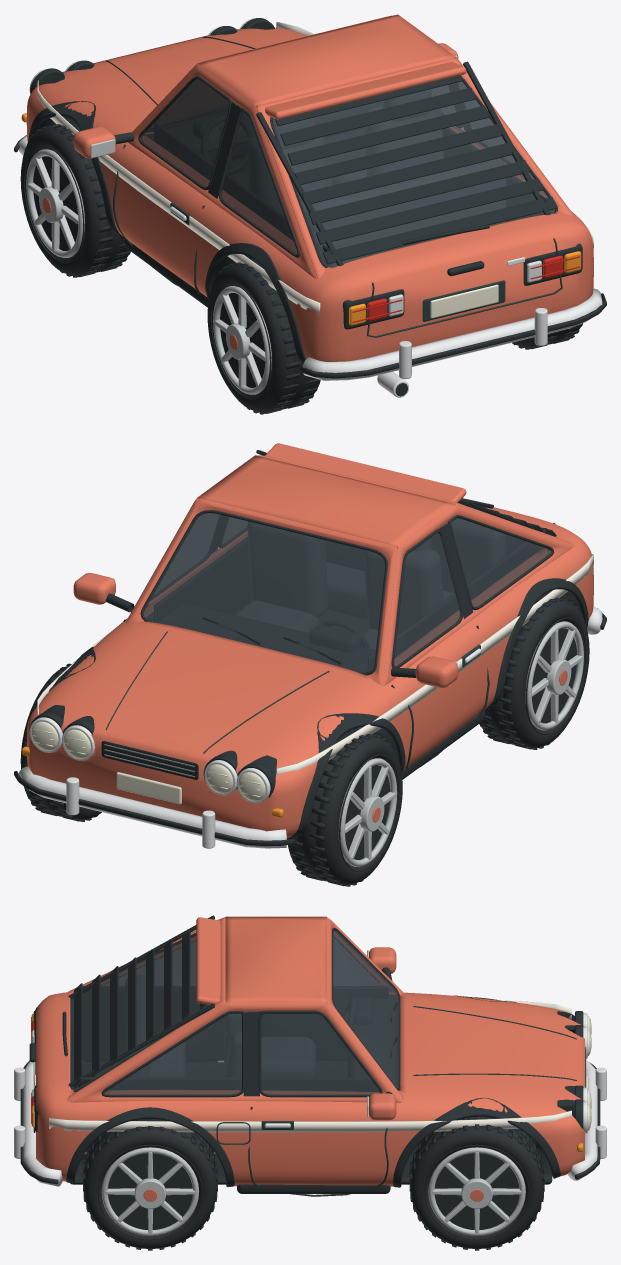
File: otter.fbx
3 renders of one model, top to bottom at view 1: azimuth 30°, elevation 25°; view 2: azimuth 150°, elevation 25°; view 3: azimuth 270°, elevation 25°, orthographic. The views are drawn at different scales.
Visible parts, largest first — view 1: Body, Wheel_RL_Mesh, Wheel_FL_Mesh, Wheel_RR_Mesh; view 2: Body, Wheel_FL_Mesh, Wheel_RL_Mesh, Wheel_FR_Mesh; view 3: Body, Wheel_FR_Mesh, Wheel_RR_Mesh.
Part boxes in pixels (x1,y1,x2,y2): Body: (14,14,606,397); Wheel_RL_Mesh: (207,258,320,414); Wheel_FL_Mesh: (20,120,130,277); Wheel_RR_Mesh: (512,323,582,349); Body: (14,443,606,848); Wheel_FL_Mesh: (287,729,402,886); Wheel_RL_Mesh: (479,594,589,749); Wheel_FR_Mesh: (20,663,101,821); Body: (14,915,606,1196); Wheel_FR_Mesh: (409,1116,544,1250); Wheel_RR_Mesh: (83,1119,217,1250).
Size of the model in its own units: 232 by 158 by 363.
